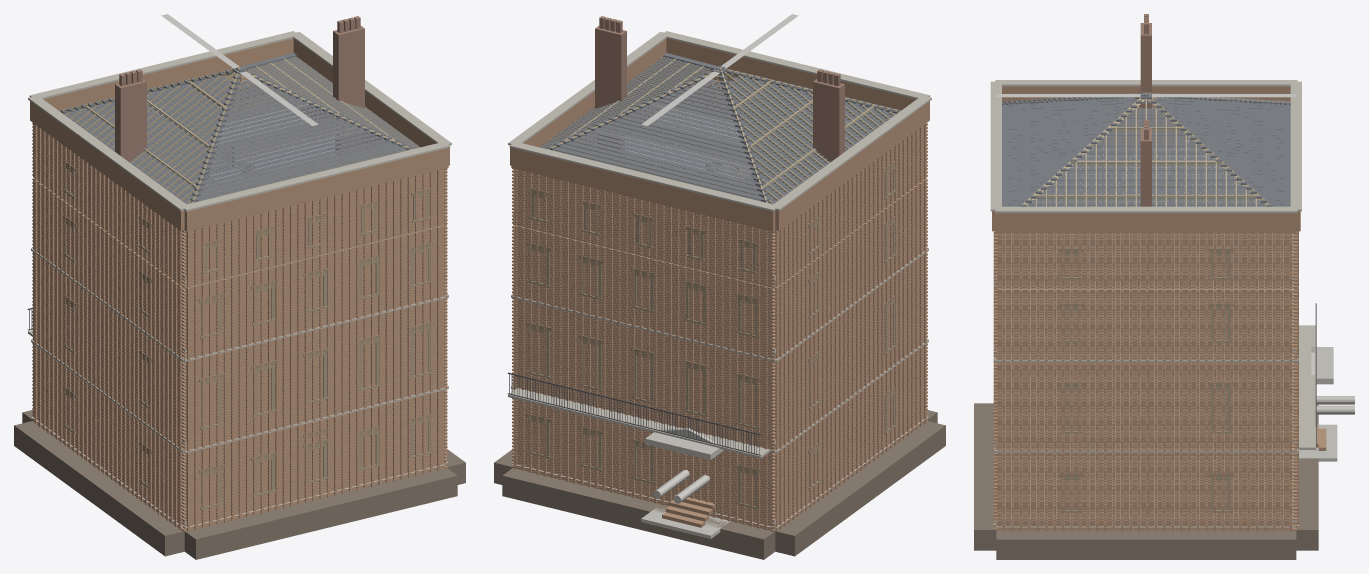
Rendered from building_grouped.glb.
3 renders of one model, left to right at view 1: azimuth 30°, elevation 25°; view 2: azimuth 150°, elevation 25°; view 3: azimuth 270°, elevation 25°, orthographic.
Parts seen in each view (by area): view 1: ext_walls, roof_covering, foundation, windows, roof_structure, parapet_1, chimneys, timber_structure, parapet_0, parapet_2, parapet_5, lintels (+8 smaller); view 2: ext_walls, roof_covering, foundation, windows, roof_structure, parapet_0, chimneys, timber_structure, parapet_1, parapet_2, balcony_0, parapet_4 (+10 smaller); view 3: ext_walls, roof_covering, foundation, parapet_3, roof_structure, finishes, parapet_2, parapet_7, windows, chimneys, balcony_0, parapet_6 (+13 smaller).
Boxes of the visible parts, bbox=[...] form: ext_walls: bbox=[32, 74, 447, 531]; roof_covering: bbox=[58, 53, 419, 228]; foundation: bbox=[14, 410, 465, 559]; windows: bbox=[63, 90, 432, 509]; roof_structure: bbox=[59, 57, 419, 230]; parapet_1: bbox=[184, 148, 448, 231]; chimneys: bbox=[115, 16, 364, 162]; timber_structure: bbox=[85, 57, 446, 530]; parapet_0: bbox=[43, 38, 293, 110]; parapet_2: bbox=[30, 101, 184, 230]; parapet_5: bbox=[181, 141, 450, 211]; lintels: bbox=[63, 84, 433, 473]; ext_walls: bbox=[512, 74, 927, 531]; roof_covering: bbox=[510, 53, 901, 228]; foundation: bbox=[494, 410, 945, 559]; windows: bbox=[527, 90, 896, 509]; roof_structure: bbox=[540, 57, 900, 231]; parapet_0: bbox=[511, 148, 775, 231]; chimneys: bbox=[595, 16, 844, 162]; timber_structure: bbox=[513, 57, 874, 529]; parapet_1: bbox=[666, 38, 916, 110]; parapet_2: bbox=[775, 101, 929, 230]; balcony_0: bbox=[508, 388, 769, 458]; parapet_4: bbox=[509, 141, 778, 211]; ext_walls: bbox=[993, 106, 1326, 531]; roof_covering: bbox=[995, 92, 1296, 230]; foundation: bbox=[974, 403, 1318, 559]; parapet_3: bbox=[996, 213, 1296, 232]; roof_structure: bbox=[996, 93, 1296, 233]; finishes: bbox=[993, 94, 1298, 527]; parapet_2: bbox=[1002, 86, 1290, 106]; parapet_7: bbox=[995, 206, 1297, 213]; windows: bbox=[1060, 252, 1232, 512]; chimneys: bbox=[1132, 14, 1151, 524]; balcony_0: bbox=[1299, 325, 1316, 449]; parapet_6: bbox=[995, 80, 1297, 86].
Size of the model in its own units: 13.8 by 18.34 by 15.25.
